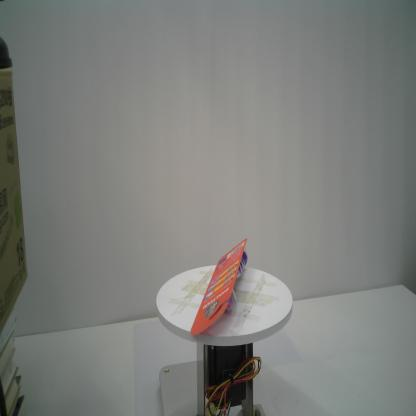Personal Hygiene: (189, 238, 248, 336)
